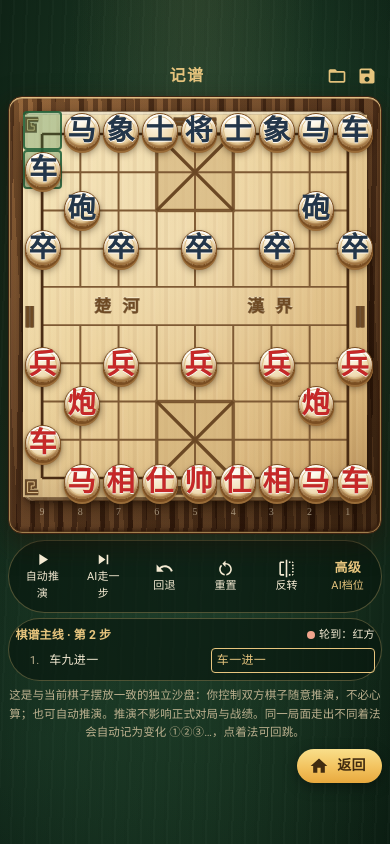
Test: 功能 B：棋谱主线面板（录入时实时可见） › 点击历史着法可跳转（gotoNode），轮到指示随之变化
Click the button "车九进一" at (125, 661), box [43,648,207,673]
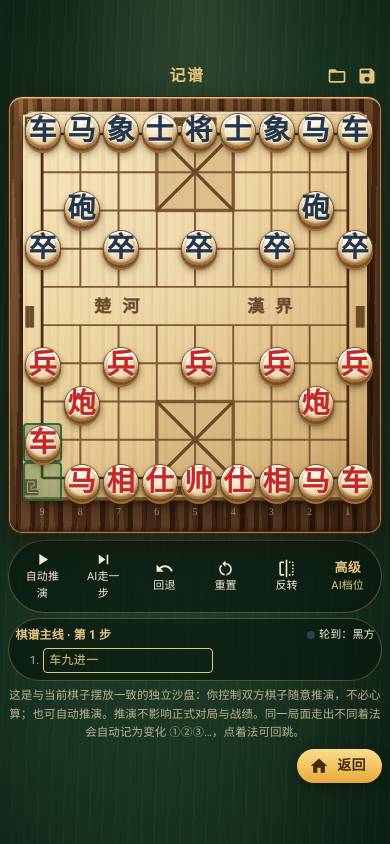
Result: the text with test id "sim-turn" reads "轮到：黑方" at [319,627,375,643]
Result: the text "棋谱主线 · 第 1 步" is shown at [15,626,111,644]
